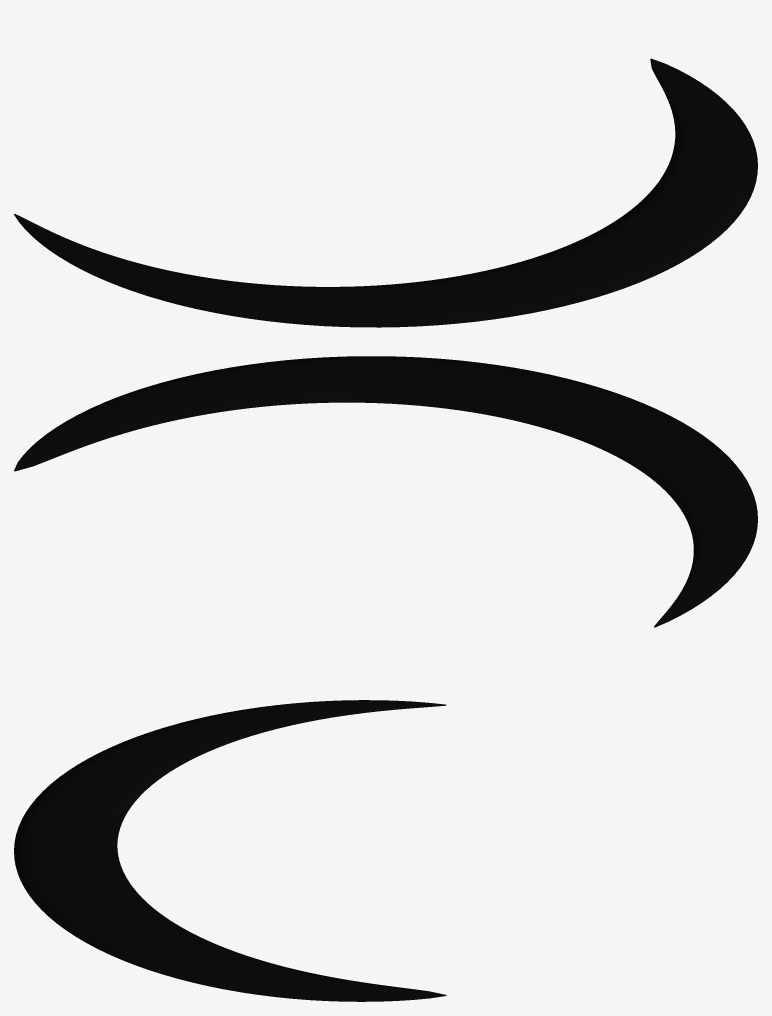
Rendered from SlashArc.fbx.
The picture shows the model from 3 angles, top to bottom: view 1: azimuth 30°, elevation 25°; view 2: azimuth 150°, elevation 25°; view 3: azimuth 270°, elevation 25°; orthographic projection. The views are drawn at different scales.
Visible parts, largest first — view 1: SlashArc; view 2: SlashArc; view 3: SlashArc.
Boxes of the visible parts, left/top/right/bottom form: SlashArc: left=14, top=58, right=757, bottom=327; SlashArc: left=14, top=356, right=757, bottom=627; SlashArc: left=14, top=700, right=446, bottom=1001.
Bounding box in the file's own units: 10.21 × 0.128 × 10.66.
Materials: 1 (1 with a texture image).
